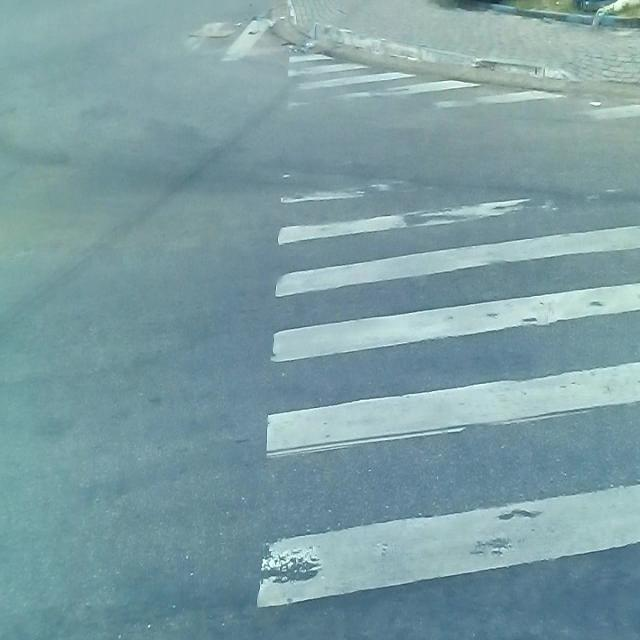crosswalk: (255, 46, 640, 640)
